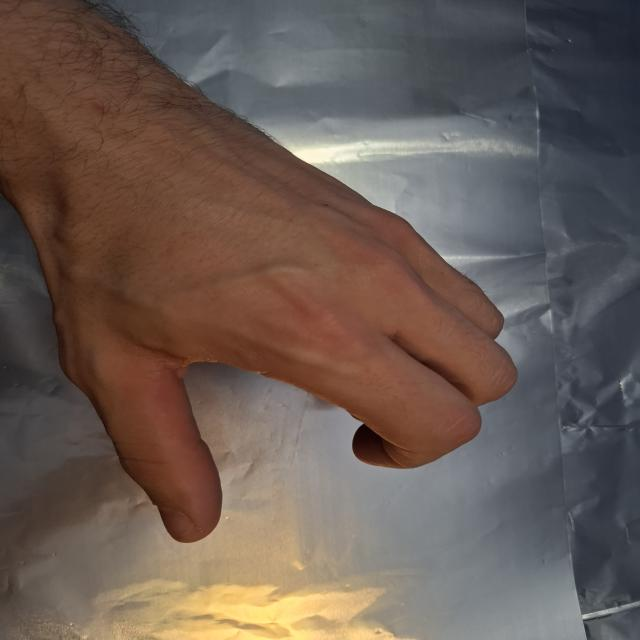glove_off: (19, 124, 521, 546)
